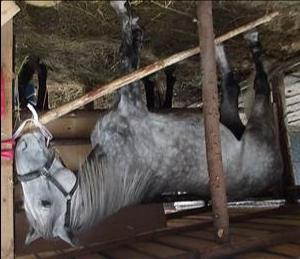horse: (14, 1, 297, 248)
